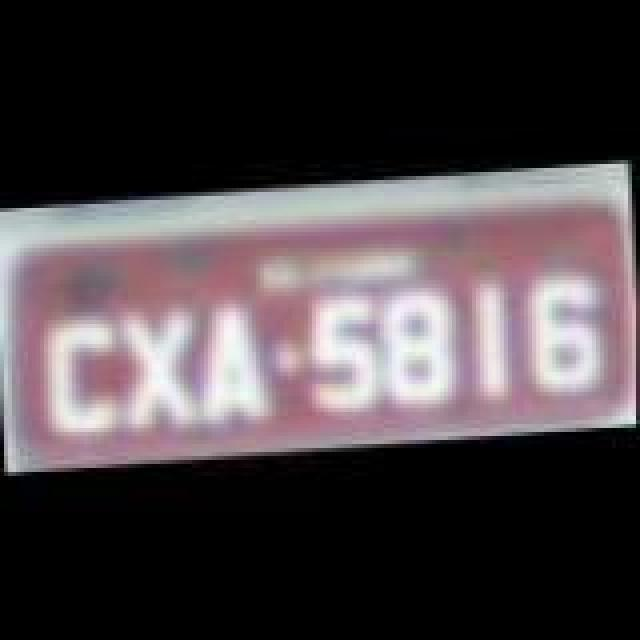1: (466, 272, 522, 412)
5: (300, 288, 384, 412)
6: (520, 264, 620, 400)
8: (378, 286, 466, 414)
A: (198, 302, 278, 430)
C: (40, 312, 132, 440)
X: (118, 306, 206, 438)
